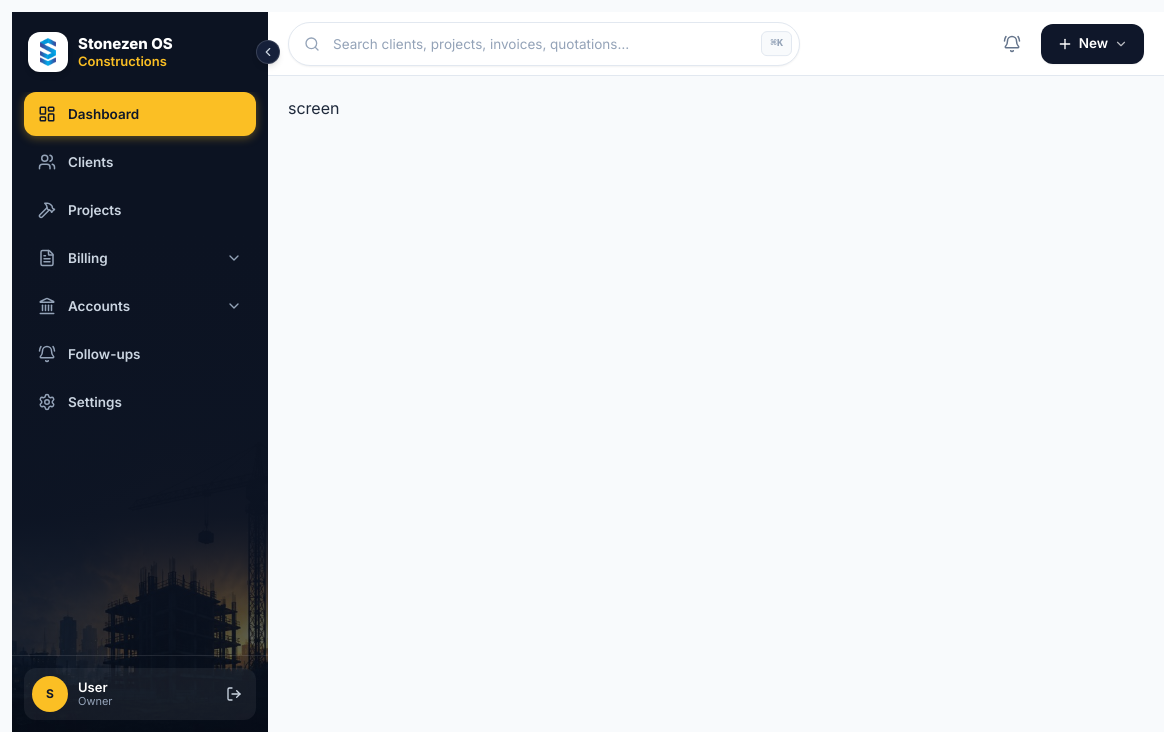
Test: topbar › opens the New menu with the real create flows
This screenshot has width=1164, height=732.
Click the button "New". click: click(1092, 44)
box: [1041, 24, 1144, 64]
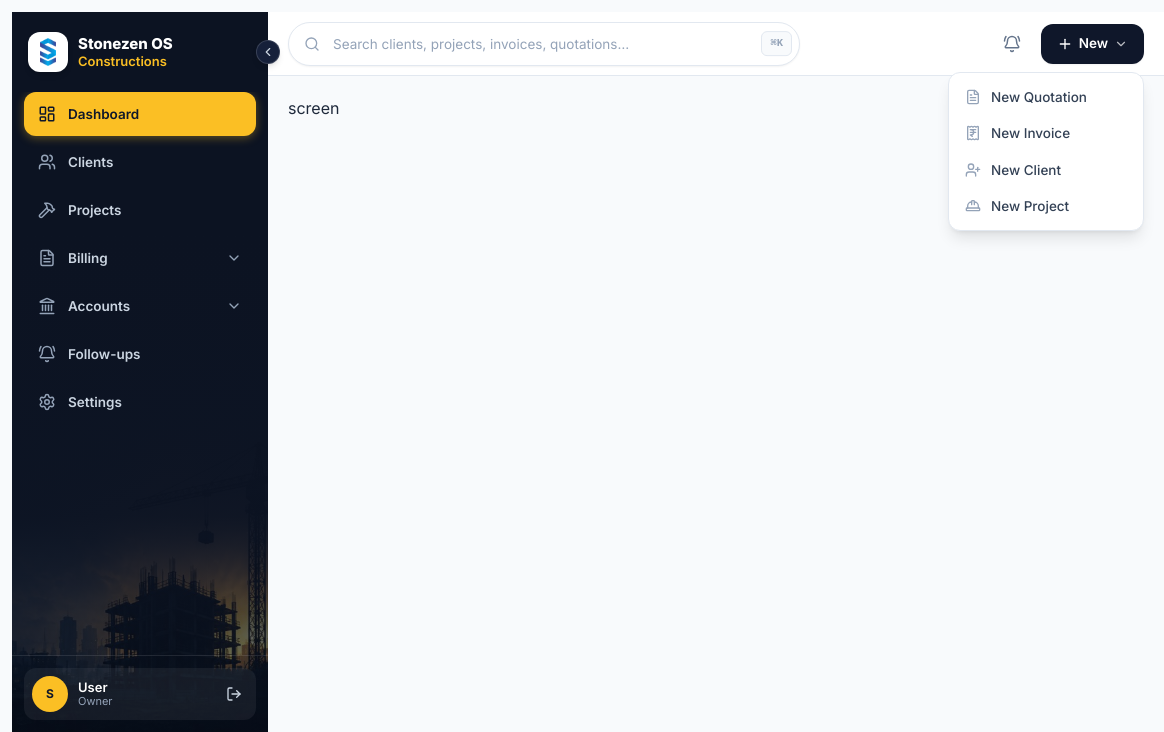
expect the menu item "New Quotation" is shown: met, box [965, 89, 1087, 105]
expect the menu item "New Invoice" is shown: met, box [965, 125, 1070, 141]
expect the menu item "New Client" is shown: met, box [965, 162, 1061, 178]
